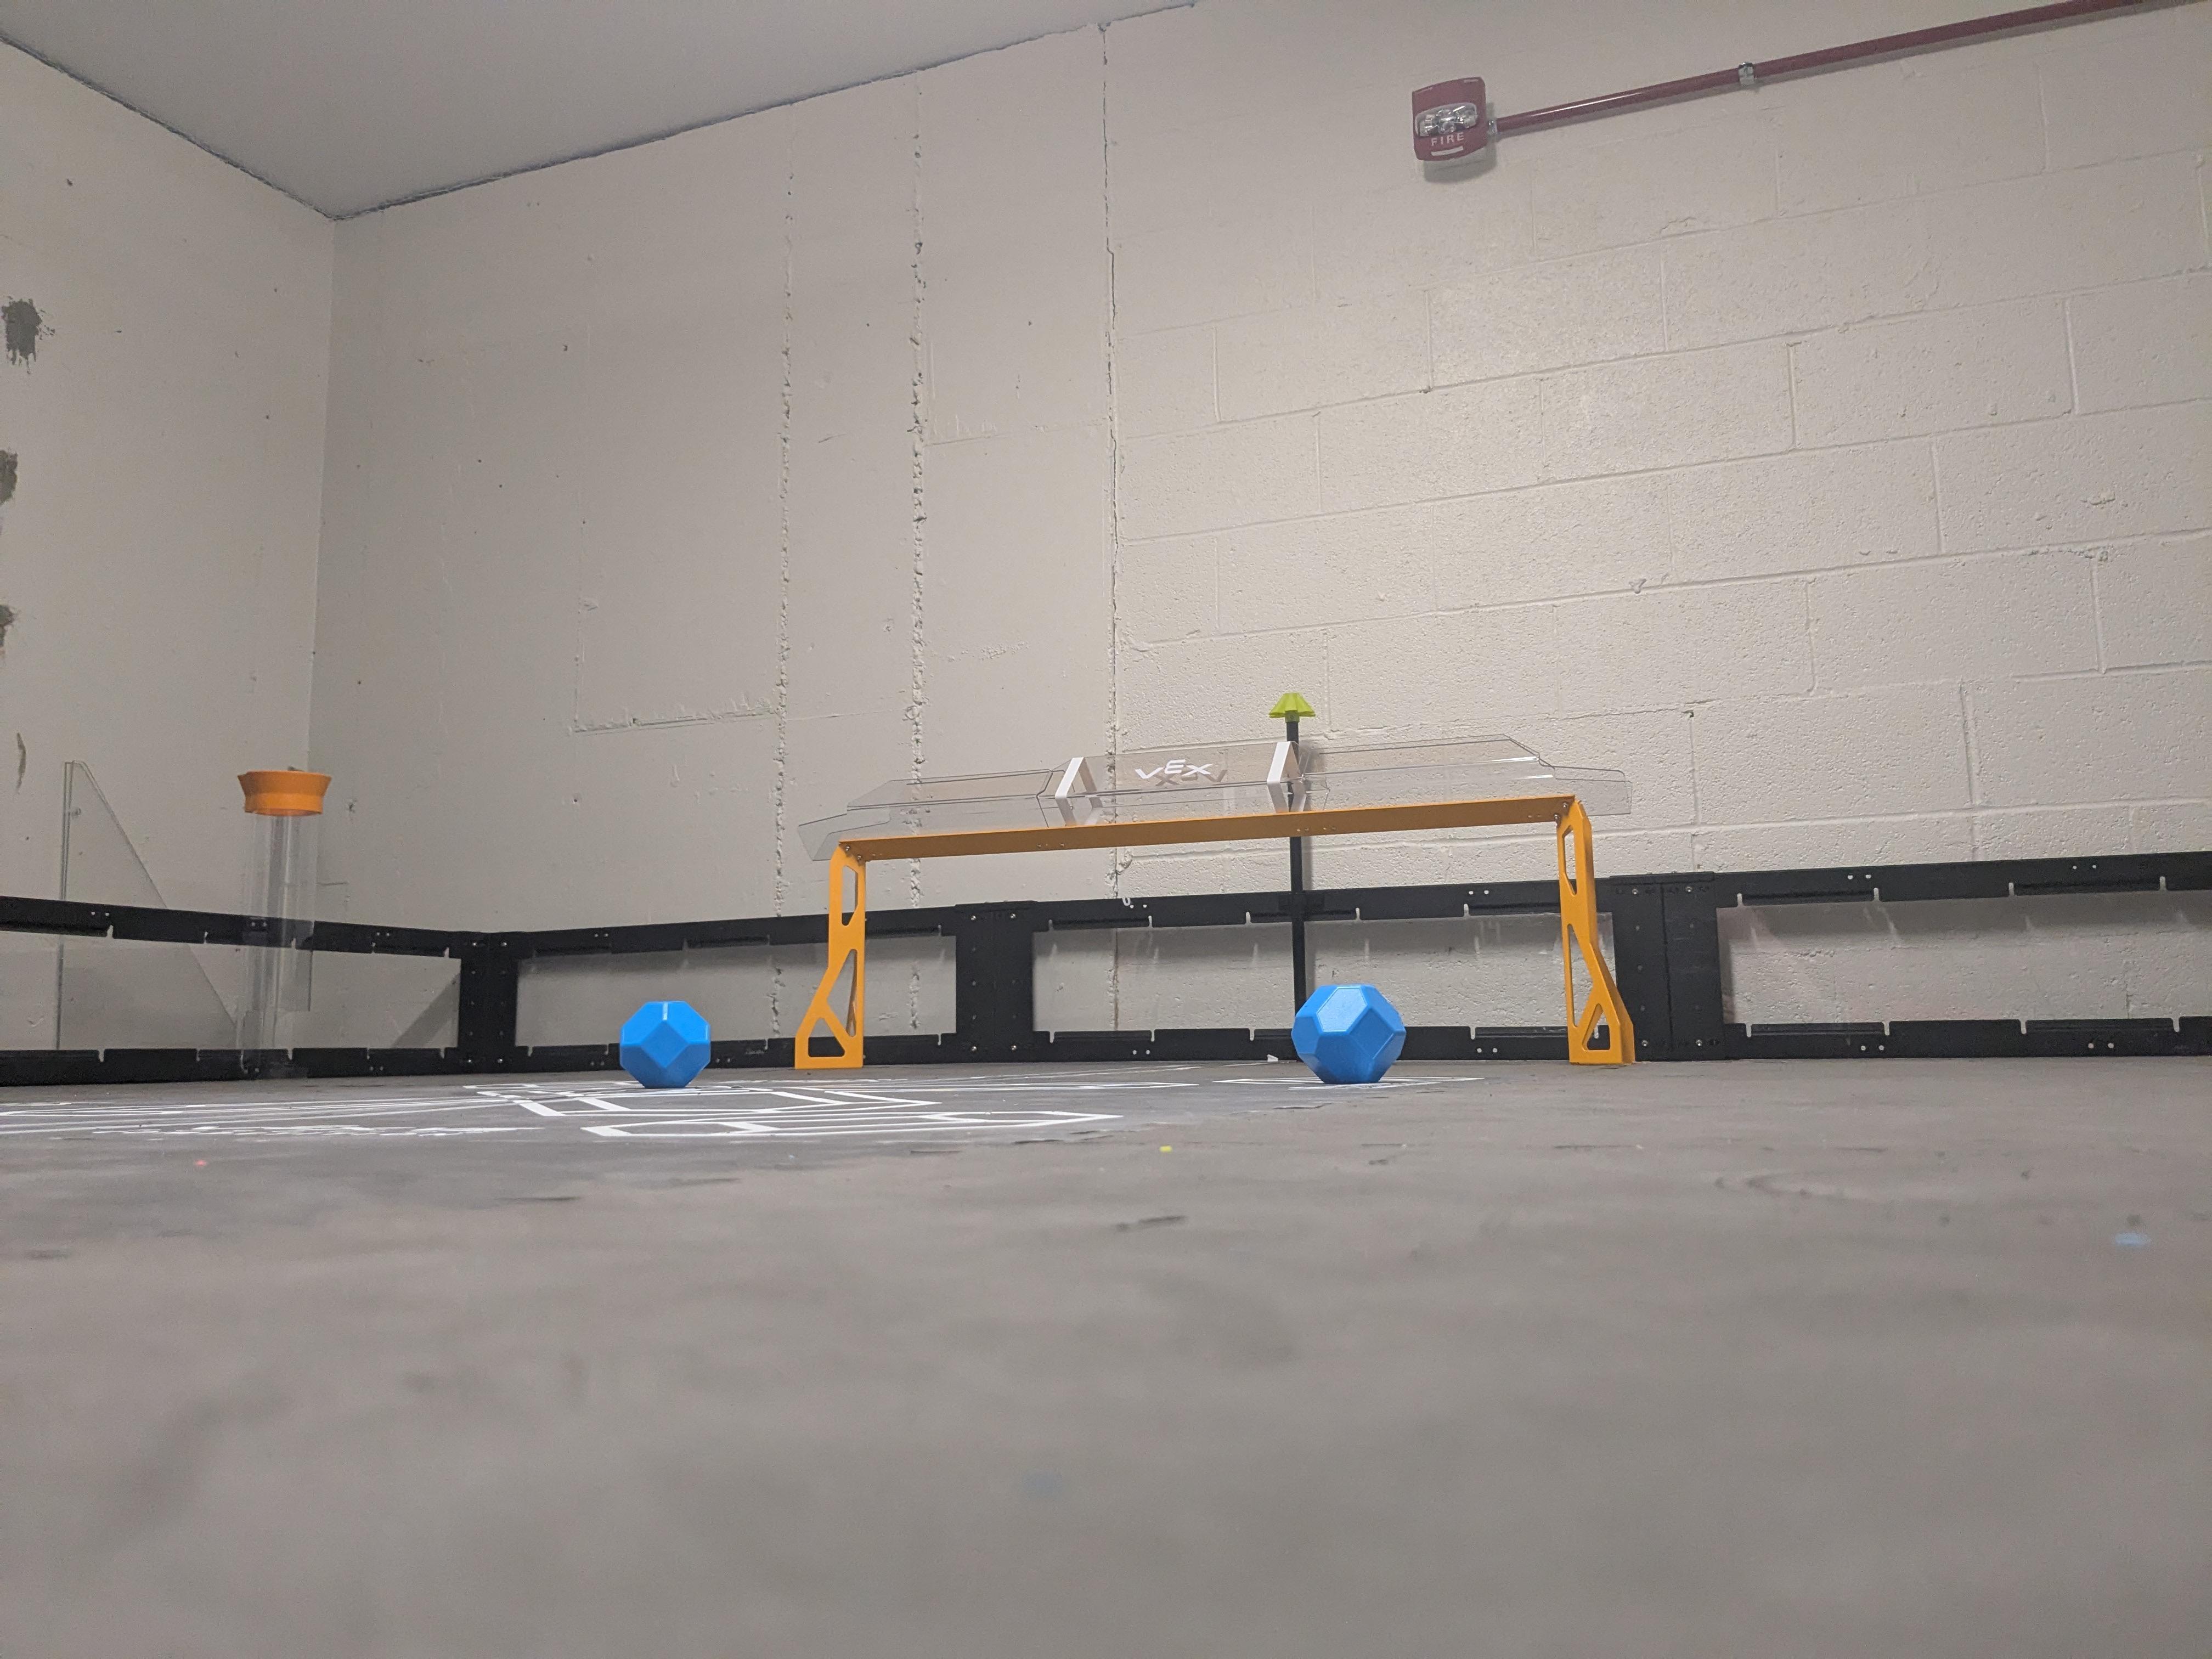Vex-Pieces-BLUE: (1296, 985, 1406, 1084), (618, 1000, 714, 1086)
